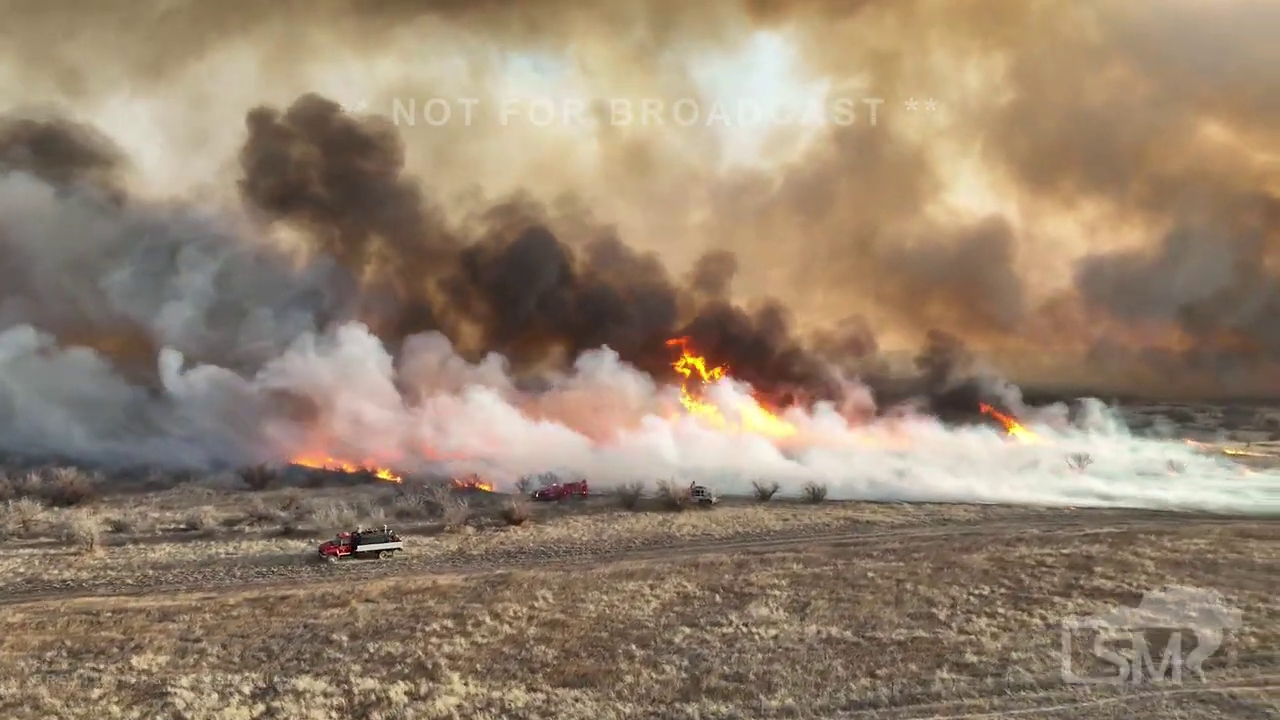forest_fire: (666, 337, 796, 438), (291, 457, 403, 482), (980, 403, 1038, 441), (451, 476, 493, 491)
